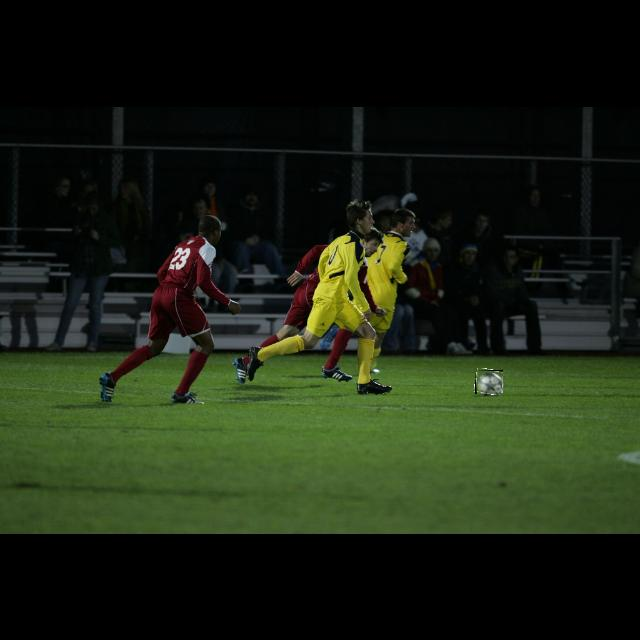Football: (475, 370, 503, 394)
